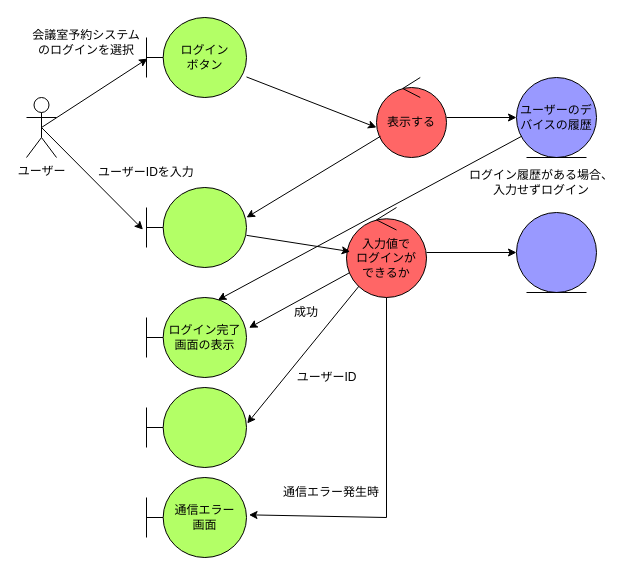
The diagram is 633 pixels wide and 575 high, and some of its shapes have lost their labels. The shapes that lost their labels are listed below. From the top down, each one's centre as x and y in pixels, then its label:
At (196,227): "ログイン情報 入力画面".
At (556,252): "データベース".
At (196,427): "入力エラー 画面".
